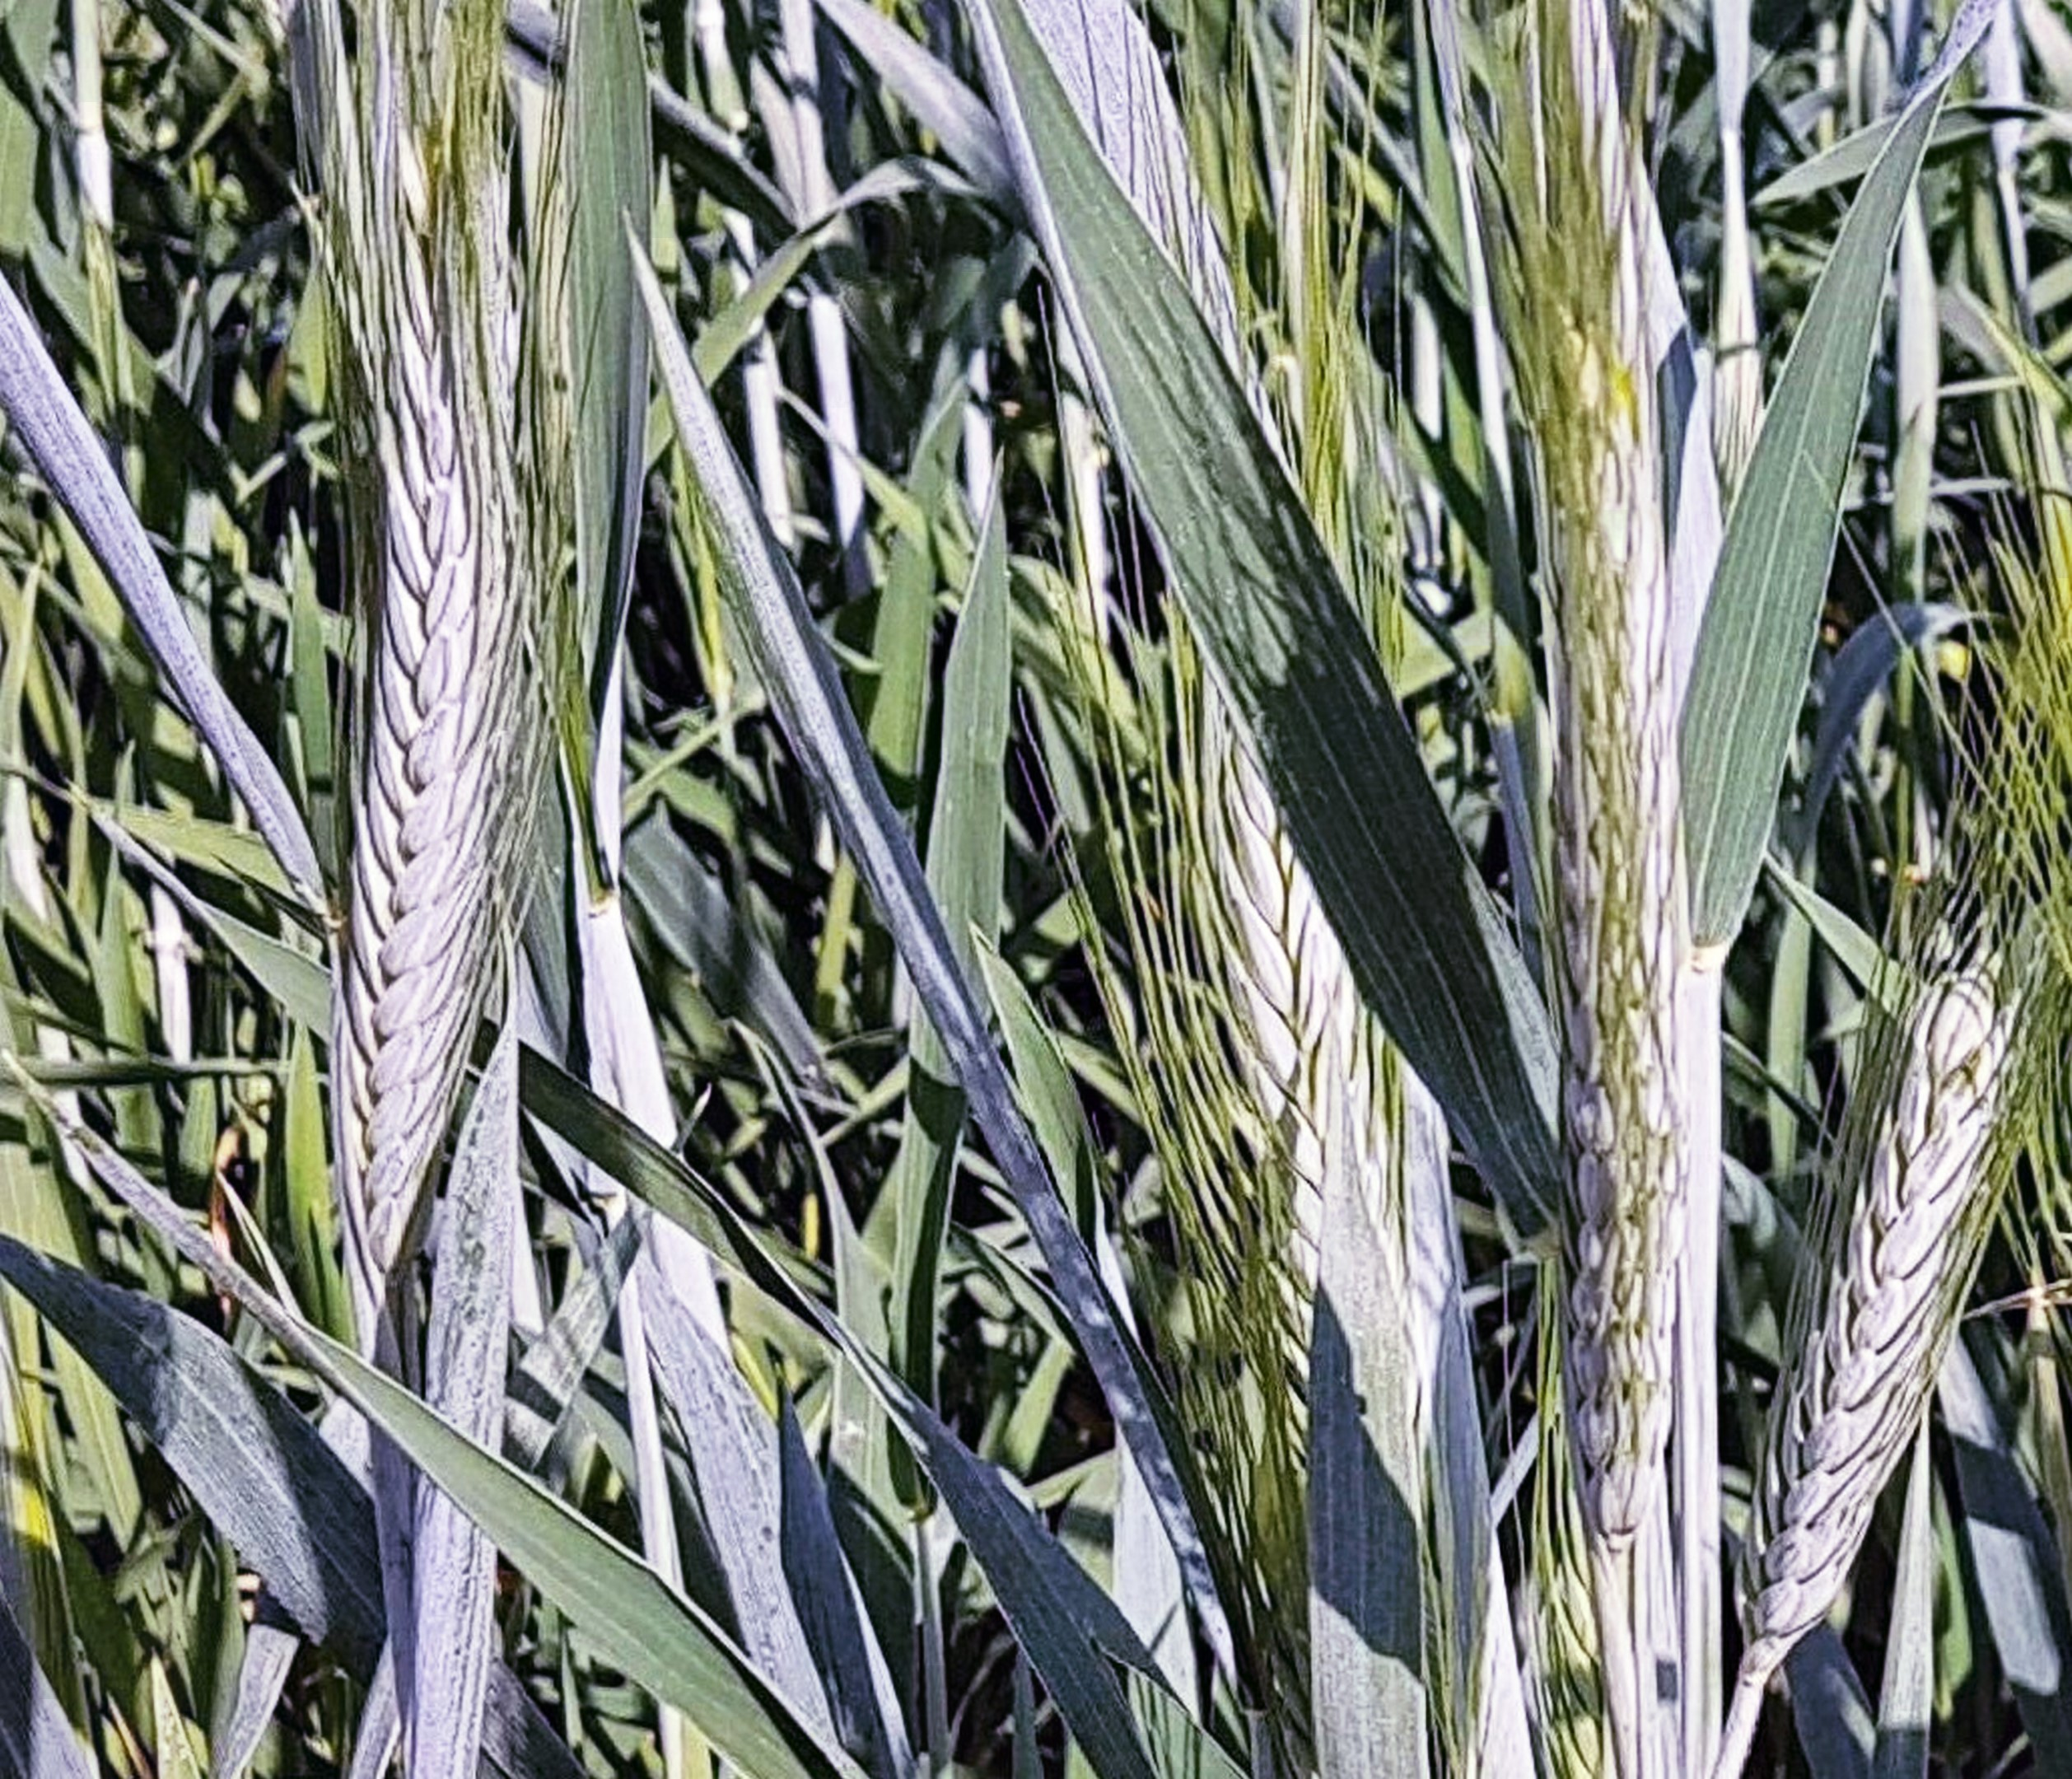Healthy Wheat: (291, 271, 587, 1275), (1744, 944, 2065, 1628)
